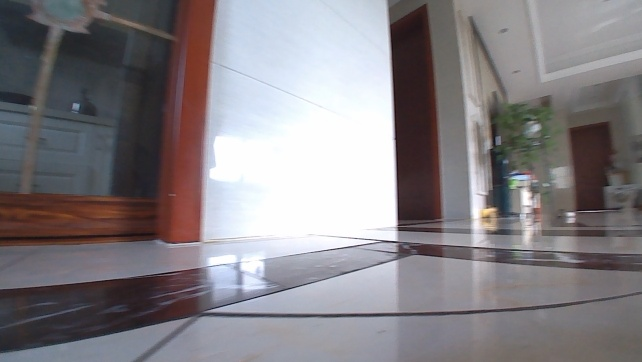cupboard1: (0, 100, 120, 198)
door_anno: (565, 120, 615, 217)
